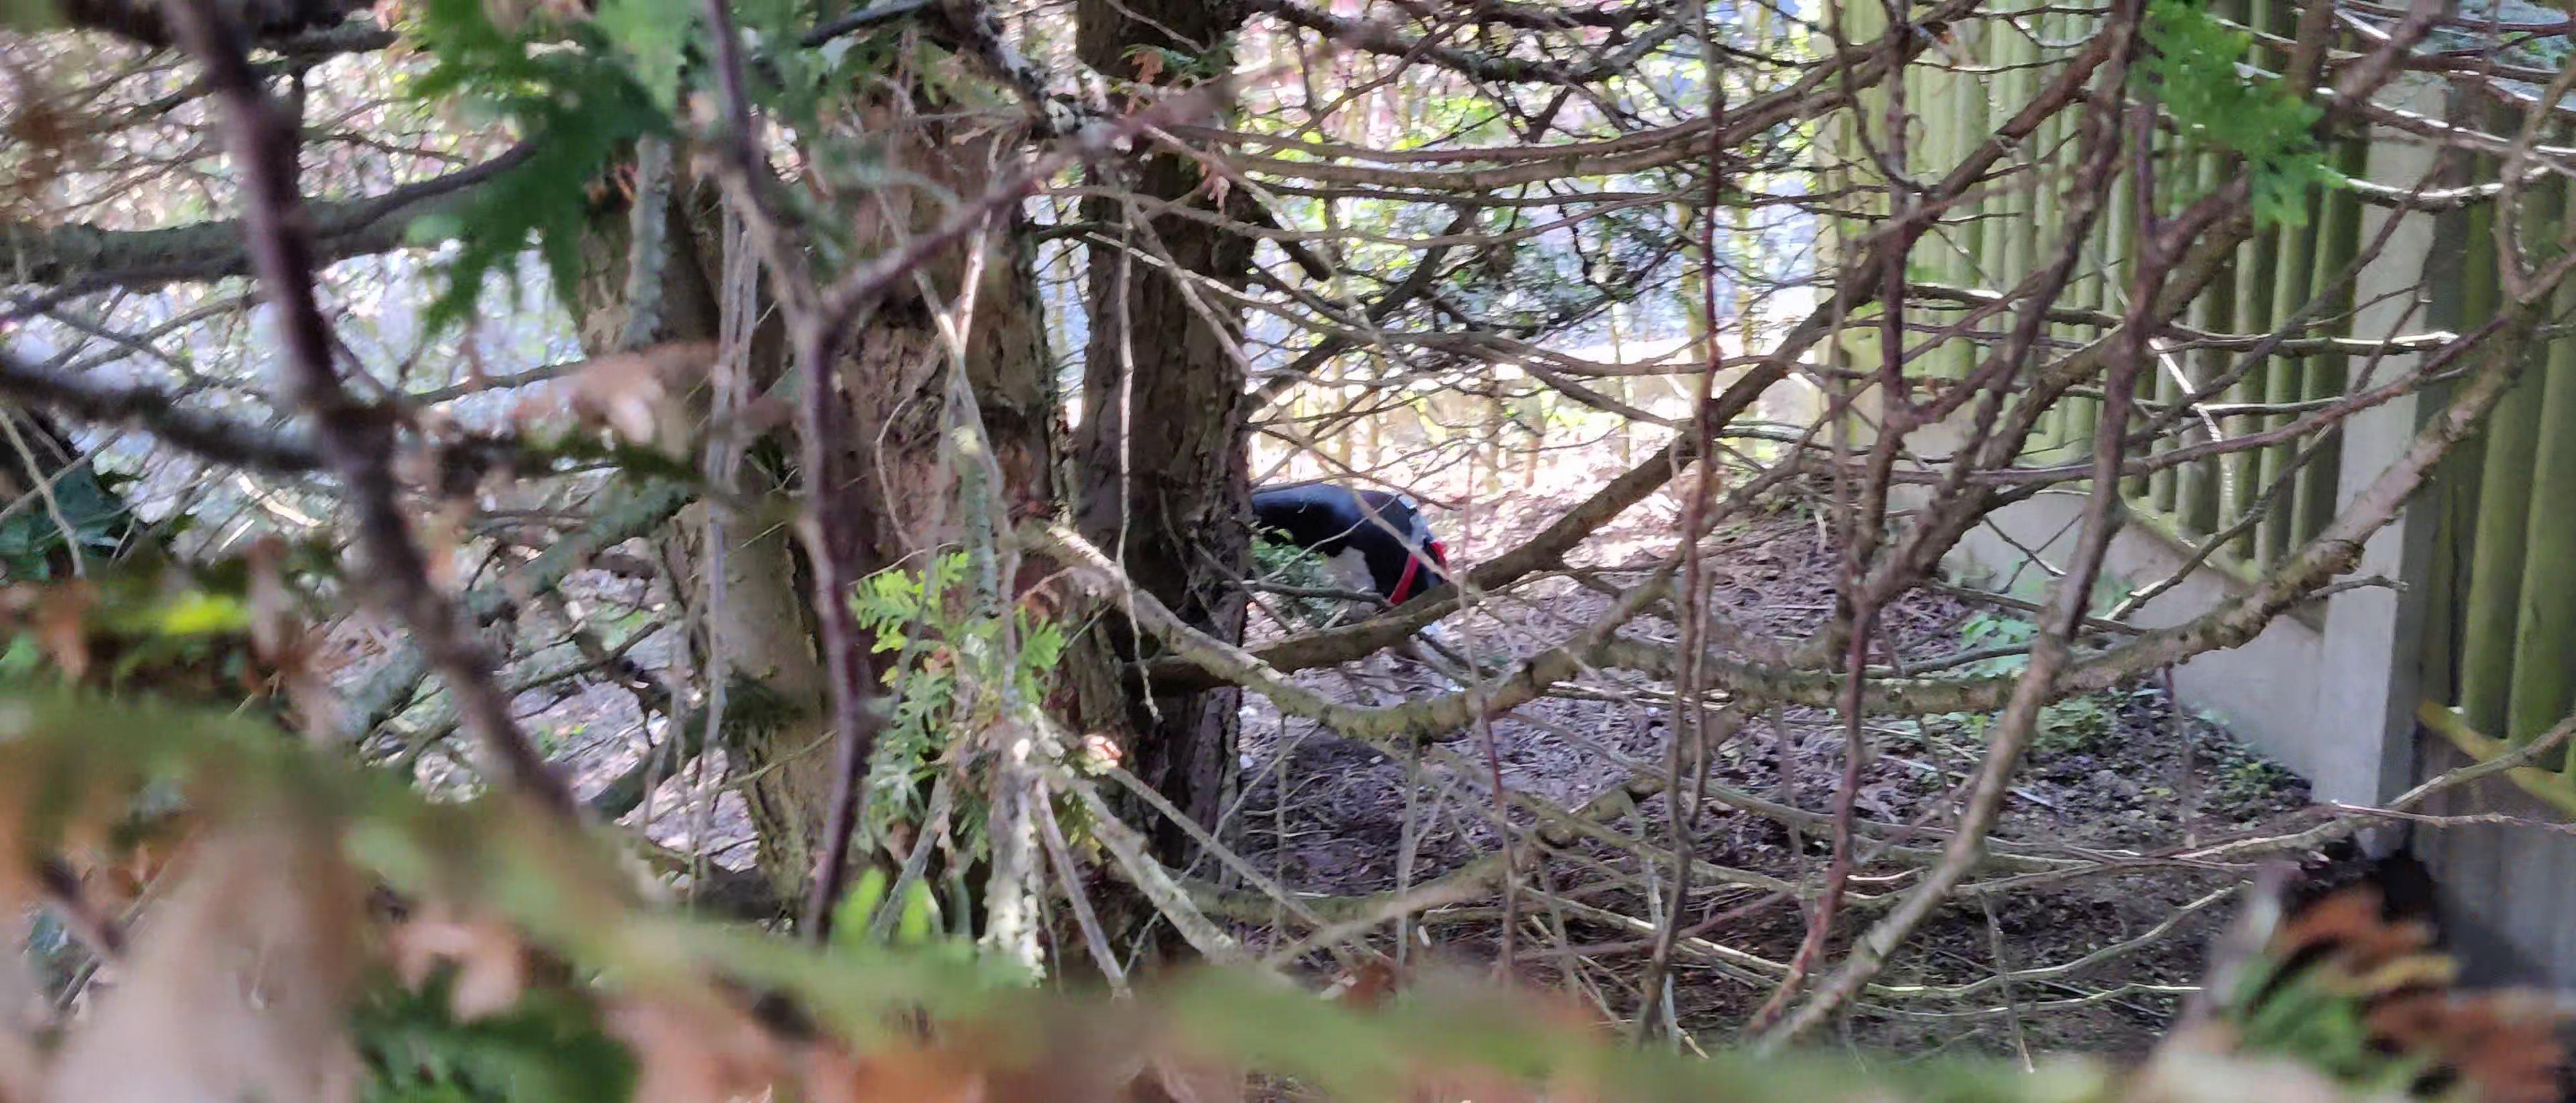Dog: (1227, 457, 1467, 708)
